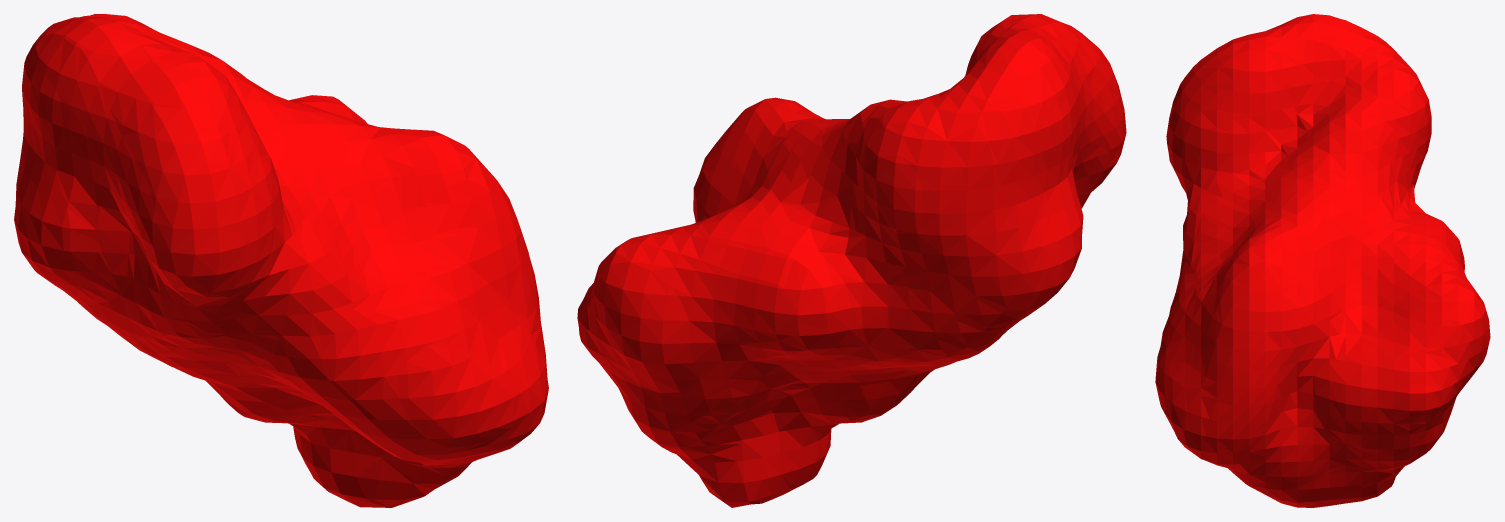
Rendered from cyoD_coarse.dae.
3 views of the same model, side by side, from view 1: azimuth 30°, elevation 25°; view 2: azimuth 150°, elevation 25°; view 3: azimuth 270°, elevation 25° (orthographic). The views are drawn at different scales.
Visible parts, largest first — view 1: cyoD; view 2: cyoD; view 3: cyoD.
Part boxes in pixels (box(x1,y1,x2,y2)): cyoD: box(14, 14, 548, 507); cyoD: box(577, 14, 1126, 507); cyoD: box(1155, 14, 1490, 507).
Size of the model in its own units: 41.6 by 46.55 by 35.88.
